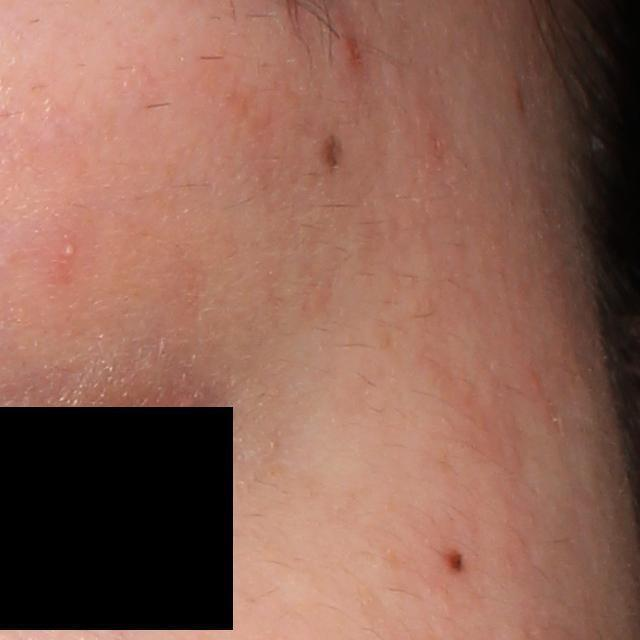nevus: (311, 131, 344, 177), (443, 548, 467, 573)
pustule: (60, 241, 78, 263)
